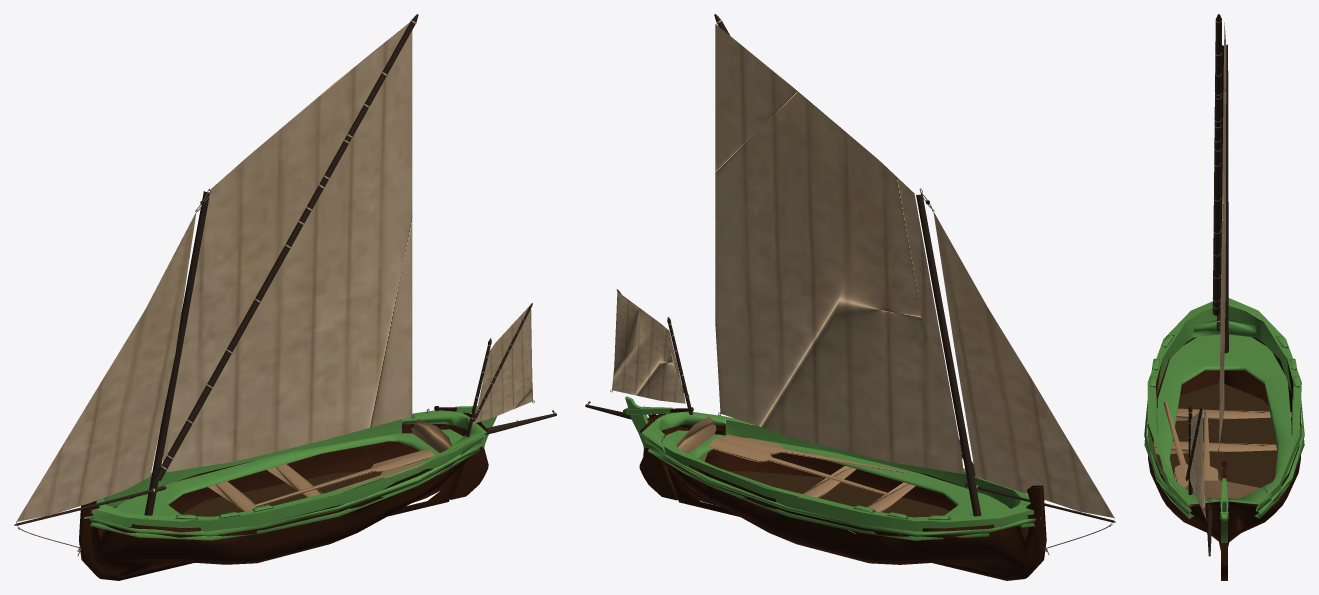
File: catraio.glb
3 renders of one model, left to right at view 1: azimuth 30°, elevation 25°; view 2: azimuth 150°, elevation 25°; view 3: azimuth 270°, elevation 25°, orthographic. The views are drawn at different scales.
Parts seen in each view (by area): view 1: Vela, lite_static, Vela.001, Vela.002, Mastro_part4, Leme01; view 2: Vela, lite_static, Vela.001, Vela.002, Leme01; view 3: lite_static, Mastro_part4, Vela, Vela.002, Leme02, Leme01, Mastro_part3.
Part boxes in pixels (x1,y1,x2,y2): Vela: (162, 22, 412, 472); lite_static: (14, 188, 556, 580); Vela.001: (16, 211, 196, 521); Vela.002: (472, 306, 533, 424); Mastro_part4: (154, 14, 418, 480); Leme01: (450, 446, 488, 499); Vela: (715, 24, 963, 474); lite_static: (585, 188, 1115, 580); Vela.001: (933, 211, 1114, 517); Vela.002: (612, 291, 685, 403); Leme01: (639, 447, 677, 500); lite_static: (1144, 44, 1304, 556); Mastro_part4: (1212, 14, 1221, 315); Vela: (1219, 22, 1226, 446); Vela.002: (1190, 410, 1206, 518); Leme02: (1220, 478, 1228, 520); Leme01: (1221, 543, 1227, 580); Mastro_part3: (1185, 408, 1202, 480).
Size of the model in its own units: 1346 by 1188 by 319.
12 materials, 5 textured.
